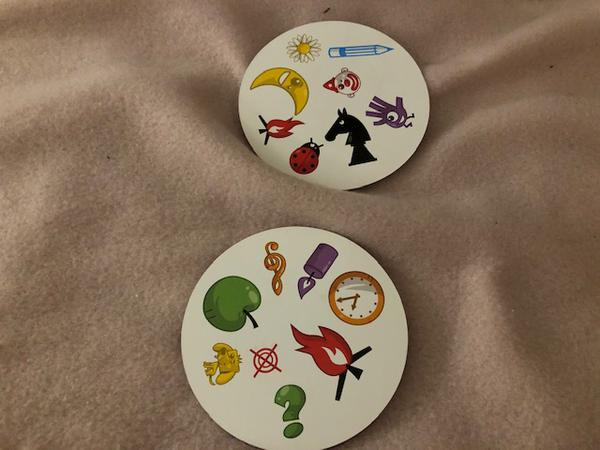bougie: (293, 237, 337, 296)
cheval: (322, 105, 376, 172)
cible: (244, 343, 284, 382)
clown: (320, 67, 366, 101)
coccinelle: (285, 135, 323, 178)
crayon: (323, 36, 390, 61)
dooble: (363, 89, 417, 133)
feu: (283, 321, 372, 399), (252, 110, 307, 160)
fleur: (283, 31, 328, 65)
horloge: (326, 269, 389, 327)
note: (256, 235, 288, 299)
point_interrogation: (273, 380, 305, 442)
pomme: (200, 273, 265, 336)
